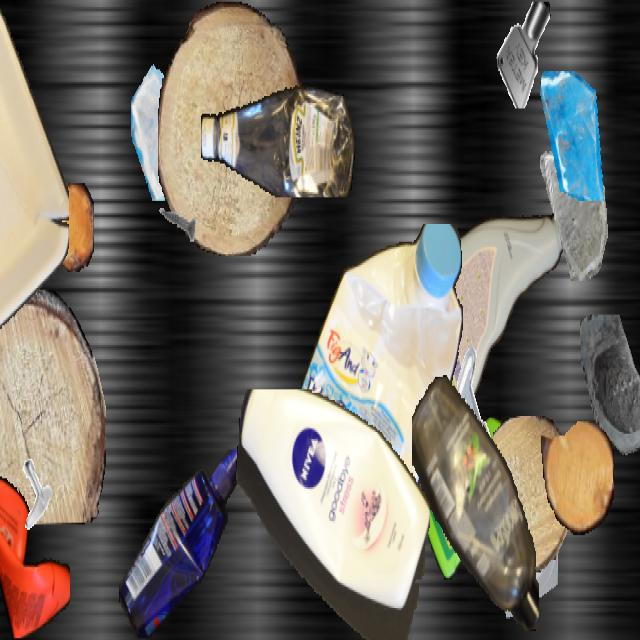glass: (131, 51, 215, 201), (577, 314, 640, 482), (537, 149, 611, 281), (537, 71, 609, 199), (299, 354, 361, 464), (501, 517, 557, 617)
metal: (445, 345, 507, 455), (495, 2, 555, 108), (11, 455, 55, 533), (156, 188, 196, 260)
plastic: (280, 224, 466, 590), (234, 390, 430, 638), (392, 203, 566, 430), (412, 372, 538, 638), (118, 450, 248, 638), (0, 2, 68, 340), (201, 76, 355, 198), (418, 416, 528, 580), (0, 471, 69, 638)
wood: (158, 2, 302, 254), (0, 290, 105, 524), (475, 416, 573, 572), (541, 421, 613, 535), (51, 183, 93, 272), (0, 166, 26, 300)
